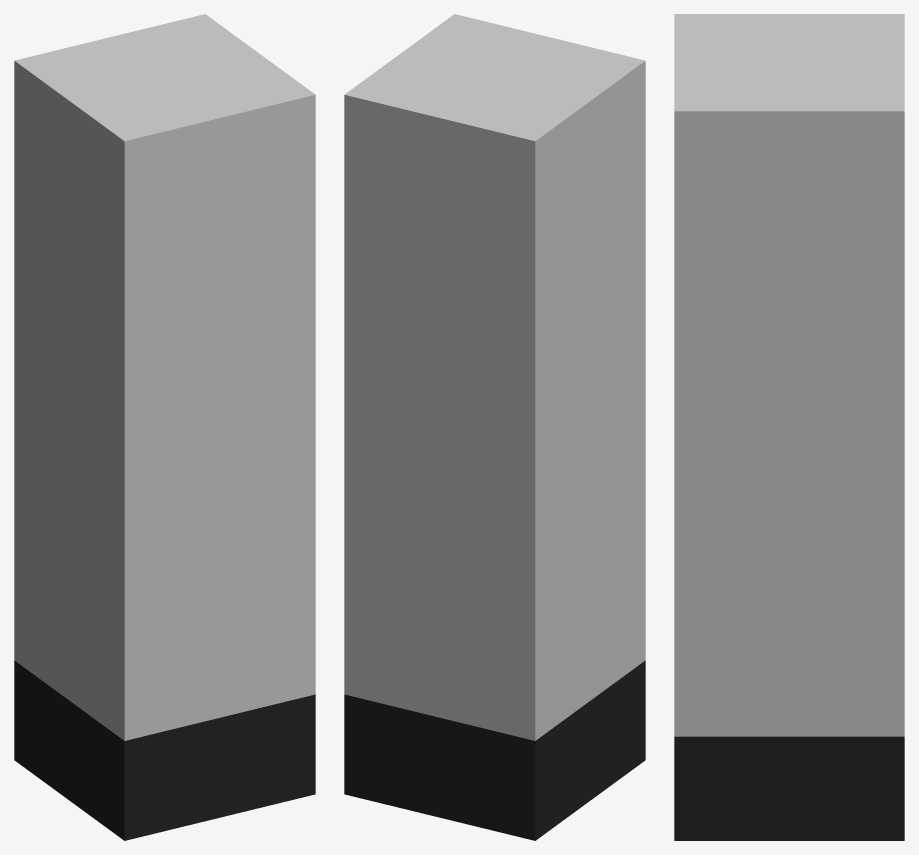
File: Animals-12.obj
The picture shows the model from 3 angles, left to right: view 1: azimuth 30°, elevation 25°; view 2: azimuth 150°, elevation 25°; view 3: azimuth 270°, elevation 25°; orthographic projection. The views are drawn at different scales.
Size of the model in its own units: 0.2 by 0.7 by 0.2.
1 material, 1 textured.
